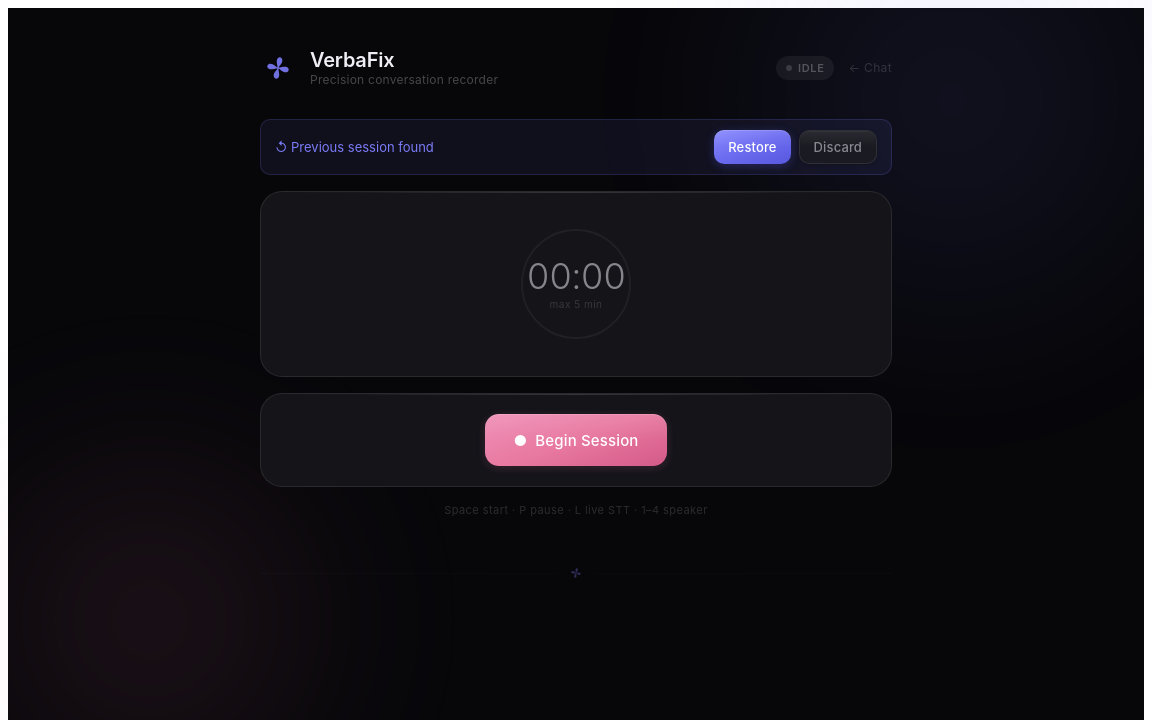
Scenario: VerbaFix component › localStorage draft detection › discarding draft removes item from localStorage and hides banner
The image size is (1152, 720).
Click the button "Discard" at (838, 147), box [799,130,877,164]
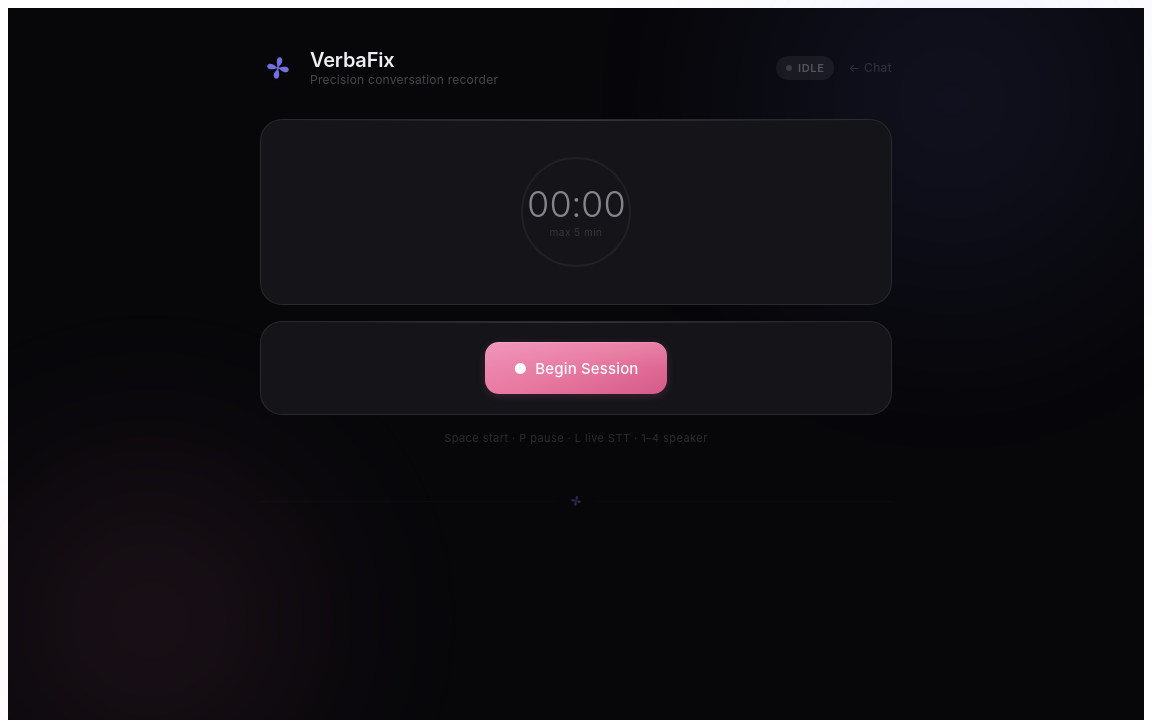
Result: the text "Previous session found" is gone
